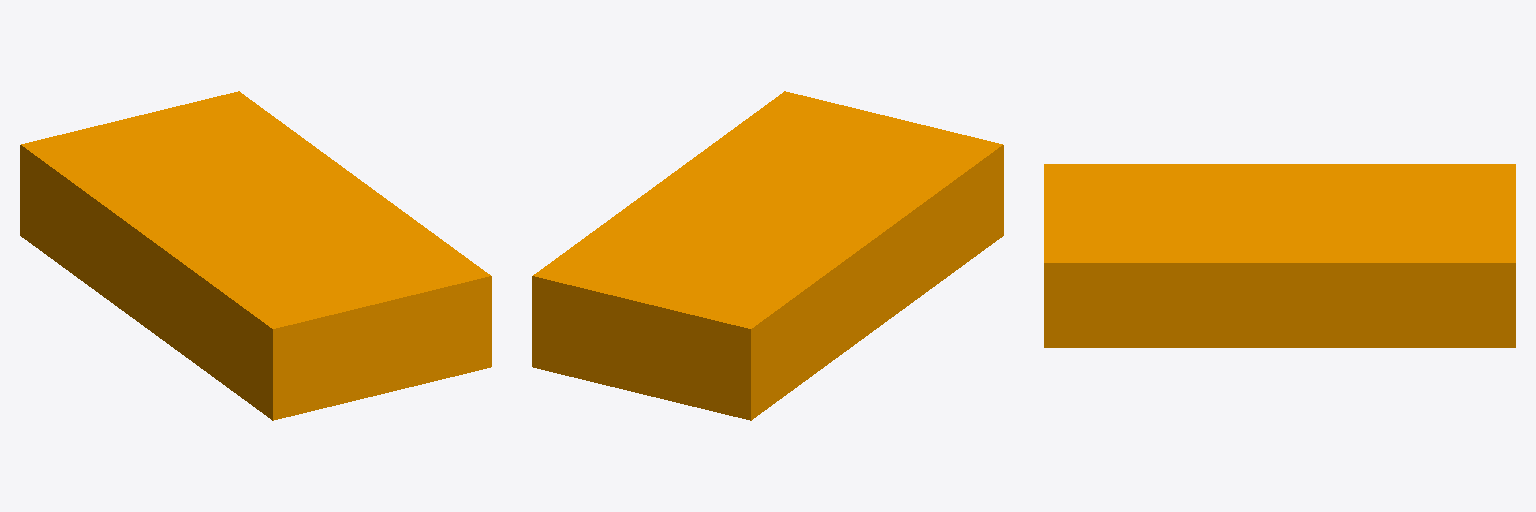
robot.urdf — ball:
<?xml version="0.0" ?>
<robot name="ball">
    <link name="wall">
        <contact>
            <lateral_friction value="1"/>
        </contact>

        <inertial>
            <origin xyz="0 0 0" rpy="0 0 0"/>
            <mass value="0.0"/>
            <inertia ixx="0"  ixy="0"  ixz="0" iyy="0" iyz="0" izz="0" />
        </inertial>

        <visual>
            <origin xyz="0 0 0" rpy="0 0 0" />
            <geometry>
                <box size="0.5 1.0 0.2" />
            </geometry>
            <material name="Orange">
                <color rgba="1.0 0.65 0.0 1.0"/>
            </material>
        </visual>

        <collision>
            <origin xyz="0 0 0" rpy="0 0 0"/>
            <geometry>
                <box size="0.5 1.0 0.2" />
            </geometry>
        </collision>
    </link>
</robot>

--- Render facts (derived) ---
The picture shows the robot from 3 angles, left to right: view 1: azimuth 30°, elevation 25°; view 2: azimuth 150°, elevation 25°; view 3: azimuth 270°, elevation 25°; orthographic projection.
Model ball with 1 links and 0 joints (none), rooted at wall, posed every joint at zero.
Links seen in each view (by area): view 1: wall; view 2: wall; view 3: wall.
Link boxes in pixels (bbox=[...]): wall: bbox=[20, 91, 491, 420]; wall: bbox=[532, 91, 1003, 420]; wall: bbox=[1044, 164, 1515, 347].
Bounding box of the posed robot: 0.5 × 1 × 0.2 m (x, y, z).
Geometry: primitives only (box / cylinder / sphere), no mesh files.